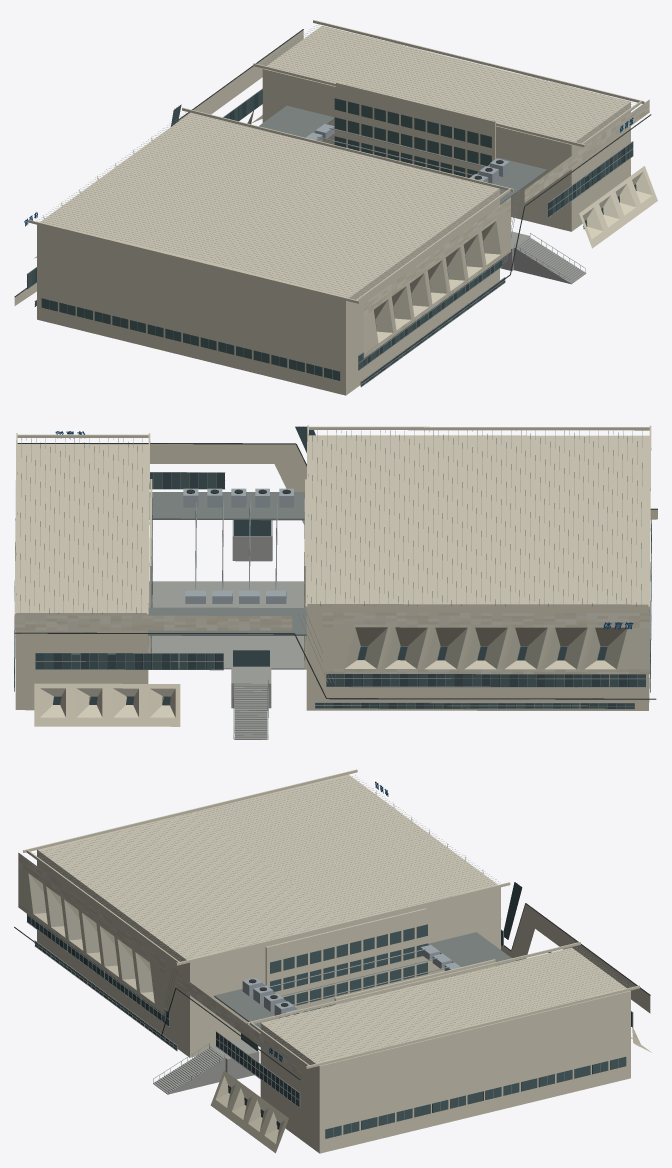
The model's file is osm_way_1281082570.glb.
3 renders of one model, top to bottom at view 1: azimuth 30°, elevation 25°; view 2: azimuth 150°, elevation 25°; view 3: azimuth 270°, elevation 25°, orthographic. The views are drawn at different scales.
Visible parts, largest first — view 1: Gym • unequal halls and open mechanical courtyard, Gym • roof seams frames and equipment, Gym • folded limestone and recessed window reveals, Gym • glazing inside physical openings, Gym • entry stair and terrace; view 2: Gym • unequal halls and open mechanical courtyard, Gym • folded limestone and recessed window reveals, Gym • roof seams frames and equipment, Gym • glazing inside physical openings, Gym • entry stair and terrace, EXTERIOR::osm_way_1281082570::native pane seals and hardware; view 3: Gym • unequal halls and open mechanical courtyard, Gym • roof seams frames and equipment, Gym • folded limestone and recessed window reveals, Gym • glazing inside physical openings, Gym • entry stair and terrace.
Boxes of the visible parts, box(x1,y1,x2,y2) form: Gym • unequal halls and open mechanical courtyard: box(37, 25, 630, 395); Gym • roof seams frames and equipment: box(14, 25, 651, 387); Gym • folded limestone and recessed window reveals: box(14, 20, 657, 358); Gym • glazing inside physical openings: box(27, 89, 636, 386); Gym • entry stair and terrace: box(500, 231, 586, 284); Gym • unequal halls and open mechanical courtyard: box(15, 435, 650, 710); Gym • folded limestone and recessed window reveals: box(14, 425, 657, 726); Gym • roof seams frames and equipment: box(14, 430, 657, 739); Gym • glazing inside physical openings: box(14, 426, 651, 708); Gym • entry stair and terrace: box(231, 520, 272, 739); EXTERIOR::osm_way_1281082570::native pane seals and hardware: box(14, 515, 651, 708); Gym • unequal halls and open mechanical courtyard: box(37, 774, 630, 1153); Gym • roof seams frames and equipment: box(14, 775, 650, 1136); Gym • folded limestone and recessed window reveals: box(18, 769, 651, 1153); Gym • glazing inside physical openings: box(27, 882, 632, 1138); Gym • entry stair and terrace: box(153, 1038, 259, 1094).
Bounding box in the file's own units: 137 × 21.11 × 126.
